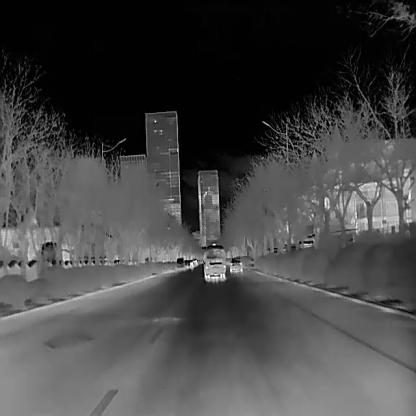bus: (202, 242, 226, 280)
car: (228, 257, 242, 272), (176, 257, 184, 268), (183, 258, 189, 269), (191, 257, 198, 266), (189, 259, 193, 268)
